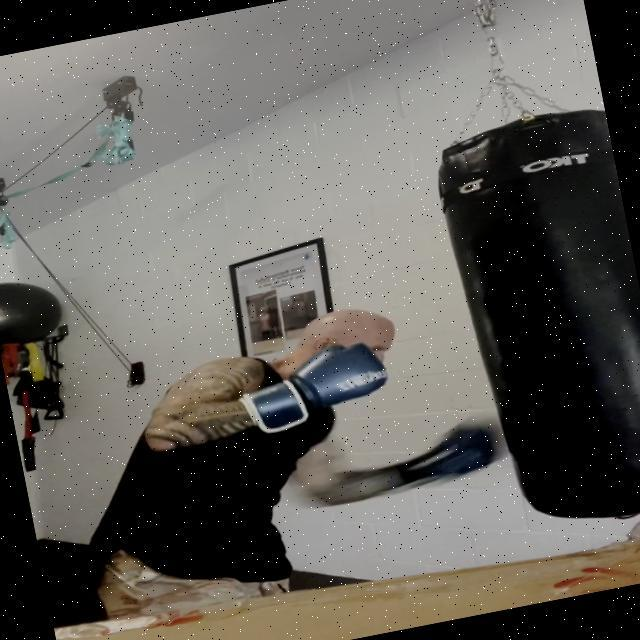bag: (435, 105, 640, 536)
uppercut: (222, 395, 516, 560)
